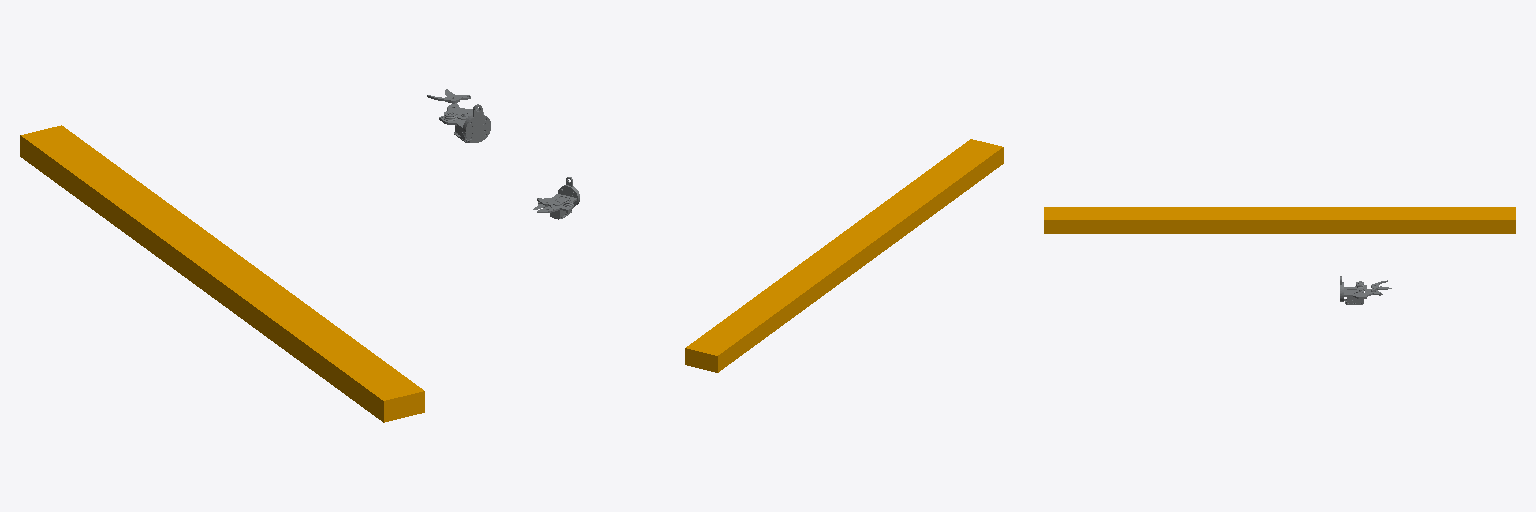
The robot description file, URDF, robot "ur5":
<?xml version="1.0" ?>
<!-- =================================================================================== -->
<!-- |    This document was autogenerated by xacro from ur5_robot.urdf.xacro           | -->
<!-- |    EDITING THIS FILE BY HAND IS NOT RECOMMENDED                                 | -->
<!-- =================================================================================== -->
<robot name="ur5" xmlns:xacro="http://ros.org/wiki/xacro">
  <!-- measured from model -->
  <!--property name="shoulder_height" value="0.089159" /-->
  <!--property name="shoulder_offset" value="0.13585" /-->
  <!-- shoulder_offset - elbow_offset + wrist_1_length = 0.10915 -->
  <!--property name="upper_arm_length" value="0.42500" /-->
  <!--property name="elbow_offset" value="0.1197" /-->
  <!-- CAD measured -->
  <!--property name="forearm_length" value="0.39225" /-->
  <!--property name="wrist_1_length" value="0.093" /-->
  <!-- CAD measured -->
  <!--property name="wrist_2_length" value="0.09465" /-->
  <!-- In CAD this distance is 0.930, but in the spec it is 0.09465 -->
  <!--property name="wrist_3_length" value="0.0823" /-->
  <!-- manually measured -->
  <link name="base_link">
    <inertial>
      <!--origin xyz="0 0 0" rpy="0 0 0"/-->
      <mass value="1.0"/>
      <inertia ixx="1.0" ixy="0.0" ixz="0.0" iyy="1.0" iyz="0.0" izz="1.0"/>
    </inertial>
    <visual>
      <geometry>
        <box size="0.1 1.52 0.05"/>
      </geometry>
      <origin rpy="0 0 0" xyz="0 0 0"/>
      <!-- This is for box only -->
      <!--origin rpy="${pi / 2} 0 ${pi}" xyz="0.05 -0.762 -0.05"/-->
      <!-- This is for Frigelie Mesh only -->
    </visual>
    <collision>
      <geometry>
        <box size="1.52 0.1 0.05"/>
      </geometry>
      <origin rpy="0 0 1.57079632679" xyz="0 0 0"/>
      <!-- This is for box only -->
      <!--origin rpy="${pi / 2} 0 ${pi}" xyz="0.05 -0.762 -0.05"/-->
      <!-- This is for Frigelie Mesh only -->
    </collision>
  </link>
  <joint name="sliding_base_joint" type="prismatic">
    <parent link="base_link"/>
    <child link="ur_base_link"/>
    <!--limit effort="100" lower="-0.69" upper="0.69" velocity="1.5"/-->
    <limit effort="100" lower="-0.683" upper="0.6811" velocity="1.5"/>
    <axis xyz="0 1 0"/>
    <origin rpy="0 0 0" xyz="0.0 0.0 0.1"/>
  </joint>
  <link name="ur_base_link">
    <visual>
      <geometry>
        <mesh filename="meshes/base.dae"/>
      </geometry>
      <material name="LightGrey">
        <color rgba="0.7 0.7 0.7 1.0"/>
      </material>
    </visual>
    <collision>
      <geometry>
        <mesh filename="meshes/base.stl"/>
      </geometry>
    </collision>
    <inertial>
      <mass value="4.0"/>
      <origin rpy="0 0 0" xyz="0.0 0.0 0.0"/>
      <inertia ixx="0.00443333156" ixy="0.0" ixz="0.0" iyy="0.00443333156" iyz="0.0" izz="0.0072"/>
    </inertial>
  </link>
  <joint name="shoulder_pan_joint" type="revolute">
    <parent link="ur_base_link"/>
    <child link="shoulder_link"/>
    <origin rpy="0.0 0.0 0.0" xyz="0.0 0.0 0.089159"/>
    <axis xyz="0 0 1"/>
    <limit effort="150.0" lower="-6.28318530718" upper="6.28318530718" velocity="3.15"/>
    <dynamics damping="0.0" friction="0.0"/>
  </joint>
  <link name="shoulder_link">
    <visual>
      <geometry>
        <mesh filename="meshes/shoulder.dae"/>
      </geometry>
      <material name="LightGrey">
        <color rgba="0.7 0.7 0.7 1.0"/>
      </material>
    </visual>
    <collision>
      <geometry>
        <mesh filename="meshes/shoulder.stl"/>
      </geometry>
    </collision>
    <inertial>
      <mass value="3.7"/>
      <origin rpy="0 0 0" xyz="0.0 0.0 0.0"/>
      <inertia ixx="0.010267495893" ixy="0.0" ixz="0.0" iyy="0.010267495893" iyz="0.0" izz="0.00666"/>
    </inertial>
  </link>
  <joint name="shoulder_lift_joint" type="revolute">
    <parent link="shoulder_link"/>
    <child link="upper_arm_link"/>
    <origin rpy="0.0 1.57079632679 0.0" xyz="0.0 0.13585 0.0"/>
    <axis xyz="0 1 0"/>
    <limit effort="150.0" lower="-6.28318530718" upper="6.28318530718" velocity="3.15"/>
    <dynamics damping="0.0" friction="0.0"/>
  </joint>
  <link name="upper_arm_link">
    <visual>
      <geometry>
        <mesh filename="meshes/upperarm.dae"/>
      </geometry>
      <material name="LightGrey">
        <color rgba="0.7 0.7 0.7 1.0"/>
      </material>
    </visual>
    <collision>
      <geometry>
        <mesh filename="meshes/upperarm.stl"/>
      </geometry>
    </collision>
    <inertial>
      <mass value="8.393"/>
      <origin rpy="0 0 0" xyz="0.0 0.0 0.28"/>
      <inertia ixx="0.22689067591" ixy="0.0" ixz="0.0" iyy="0.22689067591" iyz="0.0" izz="0.0151074"/>
    </inertial>
  </link>
  <joint name="elbow_joint" type="revolute">
    <parent link="upper_arm_link"/>
    <child link="forearm_link"/>
    <origin rpy="0.0 0.0 0.0" xyz="0.0 -0.1197 0.425"/>
    <axis xyz="0 1 0"/>
    <limit effort="150.0" lower="-3.14159265359" upper="3.14159265359" velocity="3.15"/>
    <dynamics damping="0.0" friction="0.0"/>
  </joint>
  <link name="forearm_link">
    <visual>
      <geometry>
        <mesh filename="meshes/forearm.dae"/>
      </geometry>
      <material name="LightGrey">
        <color rgba="0.7 0.7 0.7 1.0"/>
      </material>
    </visual>
    <collision>
      <geometry>
        <mesh filename="meshes/forearm.stl"/>
      </geometry>
    </collision>
    <inertial>
      <mass value="2.275"/>
      <origin rpy="0 0 0" xyz="0.0 0.0 0.25"/>
      <inertia ixx="0.049443313556" ixy="0.0" ixz="0.0" iyy="0.049443313556" iyz="0.0" izz="0.004095"/>
    </inertial>
  </link>
  <joint name="wrist_1_joint" type="revolute">
    <parent link="forearm_link"/>
    <child link="wrist_1_link"/>
    <origin rpy="0.0 1.57079632679 0.0" xyz="0.0 0.0 0.39225"/>
    <axis xyz="0 1 0"/>
    <limit effort="28.0" lower="-6.28318530718" upper="6.28318530718" velocity="3.2"/>
    <dynamics damping="0.0" friction="0.0"/>
  </joint>
  <link name="wrist_1_link">
    <visual>
      <geometry>
        <mesh filename="meshes/wrist1.dae"/>
      </geometry>
      <material name="LightGrey">
        <color rgba="0.7 0.7 0.7 1.0"/>
      </material>
    </visual>
    <collision>
      <geometry>
        <mesh filename="meshes/wrist1.stl"/>
      </geometry>
    </collision>
    <inertial>
      <mass value="1.219"/>
      <origin rpy="0 0 0" xyz="0.0 0.0 0.0"/>
      <inertia ixx="0.111172755531" ixy="0.0" ixz="0.0" iyy="0.111172755531" iyz="0.0" izz="0.21942"/>
    </inertial>
  </link>
  <joint name="wrist_2_joint" type="revolute">
    <parent link="wrist_1_link"/>
    <child link="wrist_2_link"/>
    <origin rpy="0.0 0.0 0.0" xyz="0.0 0.093 0.0"/>
    <axis xyz="0 0 1"/>
    <limit effort="28.0" lower="-6.28318530718" upper="6.28318530718" velocity="3.2"/>
    <dynamics damping="0.0" friction="0.0"/>
  </joint>
  <link name="wrist_2_link">
    <visual>
      <geometry>
        <mesh filename="meshes/wrist2.dae"/>
      </geometry>
      <material name="LightGrey">
        <color rgba="0.7 0.7 0.7 1.0"/>
      </material>
    </visual>
    <collision>
      <geometry>
        <mesh filename="meshes/wrist2.stl"/>
      </geometry>
    </collision>
    <inertial>
      <mass value="1.219"/>
      <origin rpy="0 0 0" xyz="0.0 0.0 0.0"/>
      <inertia ixx="0.111172755531" ixy="0.0" ixz="0.0" iyy="0.111172755531" iyz="0.0" izz="0.21942"/>
    </inertial>
  </link>
  <joint name="wrist_3_joint" type="revolute">
    <parent link="wrist_2_link"/>
    <child link="wrist_3_link"/>
    <origin rpy="0.0 0.0 0.0" xyz="0.0 0.0 0.09465"/>
    <axis xyz="0 1 0"/>
    <limit effort="28.0" lower="-6.28318530718" upper="6.28318530718" velocity="3.2"/>
    <dynamics damping="0.0" friction="0.0"/>
  </joint>
  <link name="wrist_3_link">
    <visual>
      <geometry>
        <mesh filename="meshes/wrist3.dae"/>
      </geometry>
      <material name="LightGrey">
        <color rgba="0.7 0.7 0.7 1.0"/>
      </material>
    </visual>
    <collision>
      <geometry>
        <mesh filename="meshes/wrist3.stl"/>
      </geometry>
    </collision>
    <inertial>
      <mass value="0.1879"/>
      <origin rpy="0 0 0" xyz="0.0 0.0 0.0"/>
      <inertia ixx="0.0171364731454" ixy="0.0" ixz="0.0" iyy="0.0171364731454" iyz="0.0" izz="0.033822"/>
    </inertial>
  </link>
  <joint name="ee_fixed_joint" type="fixed"> 
    <parent link="wrist_3_link"/>
    <child link="ee_link"/>
    <origin rpy="0.0 0.0 1.57079632679" xyz="0.0 0.0823 0.0"/> 
  </joint>
  <link name="ee_link">
    <collision>
      <geometry>
        <box size="0.01 0.01 0.01"/>
      </geometry>
      <origin rpy="0 0 0" xyz="-0.01 0 0"/> 
    </collision>
  </link>
  <!-- nothing to do here at the moment -->
  <!-- ROS base_link to UR 'Base' Coordinates transform -->
  <link name="base"/>
  <joint name="base_link-base_fixed_joint" type="fixed">
    <!-- NOTE: this rotation is only needed as long as base_link itself is
                 not corrected wrt the real robot (ie: rotated over 180
                 degrees)
      -->
    <origin rpy="0 0 -3.14159265359" xyz="0 0 0"/>
    <parent link="base_link"/>
    <child link="base"/>
  </joint>
  <!-- Frame coincident with all-zeros TCP on UR controller -->
  <link name="tool0"/>


    <!-- ================================================== END-EFFECTOR START=================================================-->

  <joint name="wrist_3_to_ee_base_joint" type="fixed">
    <origin rpy="3.1415 0 1.5708 " xyz="0.038 0.085 0.05 "/> <!---rpy="3.1415 0 1.5708 " xyz="-0.049 0.0818 0.042 "-->
    <child link="ee_base_link"/>
    <parent link="wrist_3_link"/>
  </joint>

  <link name="ee_base_link">

    <visual>
      <origin rpy=" 0 0 0" xyz="0 0 0"/>
      <geometry>
        <mesh filename="meshes/ee3_coarse_edited_.stl" scale=".001 .001 .001"/>
      </geometry>
      <material name="aluminum">
        <color rgba="0.517 0.529 0.5377 1"/>
      </material>
    </visual>
    <collision>
      <origin xyz="0 0 0"/>
      <geometry>
        <mesh filename="meshes/ee3_coarse_edited_.stl" scale=".001 .001 .001"/>
      </geometry>
    </collision>
    <inertial>
      <mass value="0.2"/>
      <origin rpy=" 0 0 0" xyz="0.0 0 0.0"/>
      <inertia ixx="1.0" ixy="0" ixz="0" iyy="1.0" iyz="0" izz="1.0"/>
      <!--inertia ixx="0.5" ixy="0" ixz="0" iyy="1.0" iyz="0" izz="0.1"/-->
    </inertial>
  </link>

  <!-- END-EFFECTOR END -->

  <!-- END-EFFECTOR END -->

  <!--
	<visual>
	  <geometry>
		<box size="0.05 0.05 0.05"/>
	  </geometry>
	<origin rpy="0 0 0" xyz="0 0 0"/>
	</visual>

	<collision>
	  <geometry>
		<box size="0.05 0.05 0.05"/>
	  </geometry>
	<origin rpy="0 0 0" xyz="0 0 0"/>
	</collision>

   </link>
-->
  <joint name="wrist_3_link-tool0_fixed_joint" type="fixed">
    <origin rpy="-1.57079632679 0 0" xyz="0 0.0823 0"/>
    <parent link="wrist_3_link"/>
    <child link="tool0"/>
  </joint>
  <!-- I added this -->
  <link name="camera_link"/>
  <joint name="base_link-camera_fixed_joint" type="fixed">
    <!-- NOTE: this rotation is only needed as long as base_link itself is
                 not corrected wrt the real robot (ie: rotated over 180
                 degrees)
      -->
    <origin rpy="0 0 0" xyz="0.175 0.05 -0.07"/>
    <parent link="base_link"/>
    <child link="camera_link"/>
  </joint>
  <link name="world"/>
  <joint name="world_joint" type="fixed">
    <parent link="world"/>
    <child link="base_link"/>
    <origin rpy="0.0 0.0 0.0" xyz="0.0 0.0 0.0"/>
  </joint>

</robot>

--- Facts derived from the render (not from the file) ---
3 views of the same robot in one strip: view 1: azimuth 30°, elevation 25°; view 2: azimuth 150°, elevation 25°; view 3: azimuth 270°, elevation 25° (orthographic).
Robot: ur5 — 14 links, 13 joints (6 revolute, 1 prismatic, 6 fixed); root link world; default pose: all joints at 0.
Visible links, largest first — view 1: base_link, ee_base_link; view 2: base_link, ee_base_link; view 3: base_link, ee_base_link.
Boxes of the visible links, box(x1,y1,x2,y2) form: base_link: box(20, 125, 424, 422); ee_base_link: box(427, 89, 490, 142); base_link: box(685, 139, 1003, 372); ee_base_link: box(533, 177, 579, 219); base_link: box(1044, 207, 1515, 233); ee_base_link: box(1340, 276, 1391, 304).
Bounding box of the posed robot: 0.8283 × 1.52 × 0.1658 m (x, y, z).
1 mesh visuals loaded from 8 distinct referenced files (1 binary STL); not drawn: 7 (reference not matched to a file when rendering).